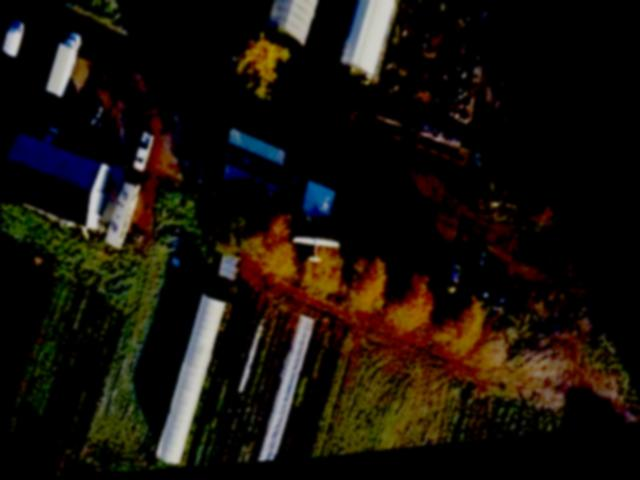uav: (289, 233, 343, 273)
